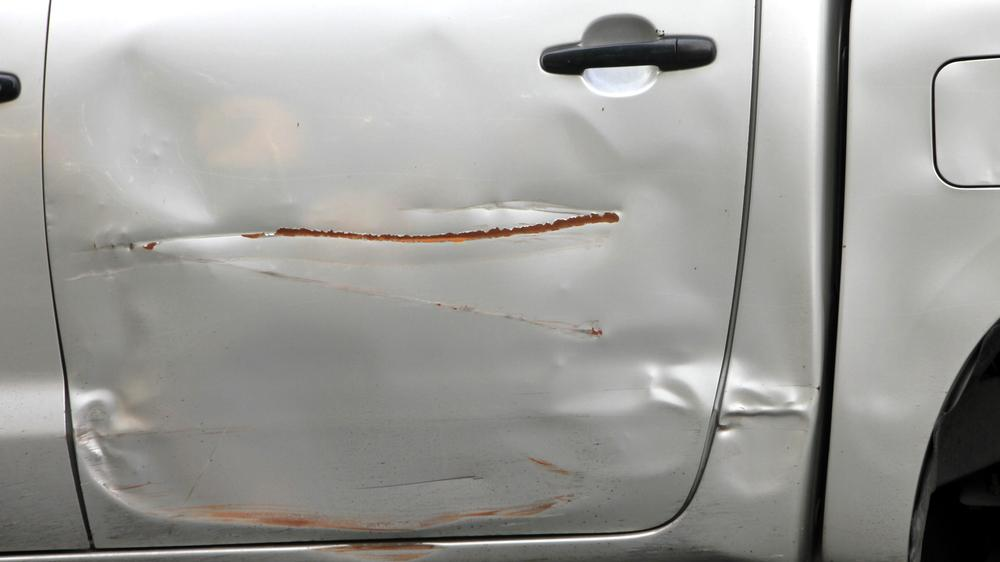dent: (69, 16, 693, 527), (717, 295, 815, 494)
scratch: (240, 208, 625, 246)
